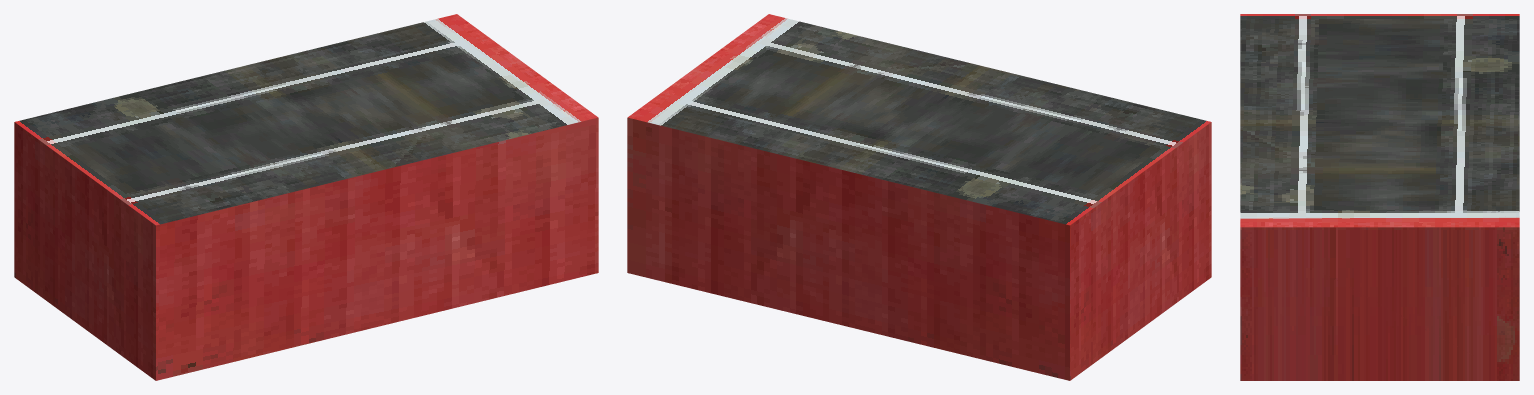
Rendered from ammo.glb.
The picture shows the model from 3 angles, left to right: view 1: azimuth 30°, elevation 25°; view 2: azimuth 150°, elevation 25°; view 3: azimuth 270°, elevation 25°; orthographic projection.
Parts seen in each view (by area): view 1: ammo; view 2: ammo; view 3: ammo.
Boxes of the visible parts, box(x1,y1,x2,y2) form: ammo: box(14, 14, 598, 380); ammo: box(627, 14, 1211, 380); ammo: box(1240, 14, 1519, 380).
Bounding box in the file's own units: 0.8756 × 0.2939 × 0.4847.
1 material, 1 textured.
